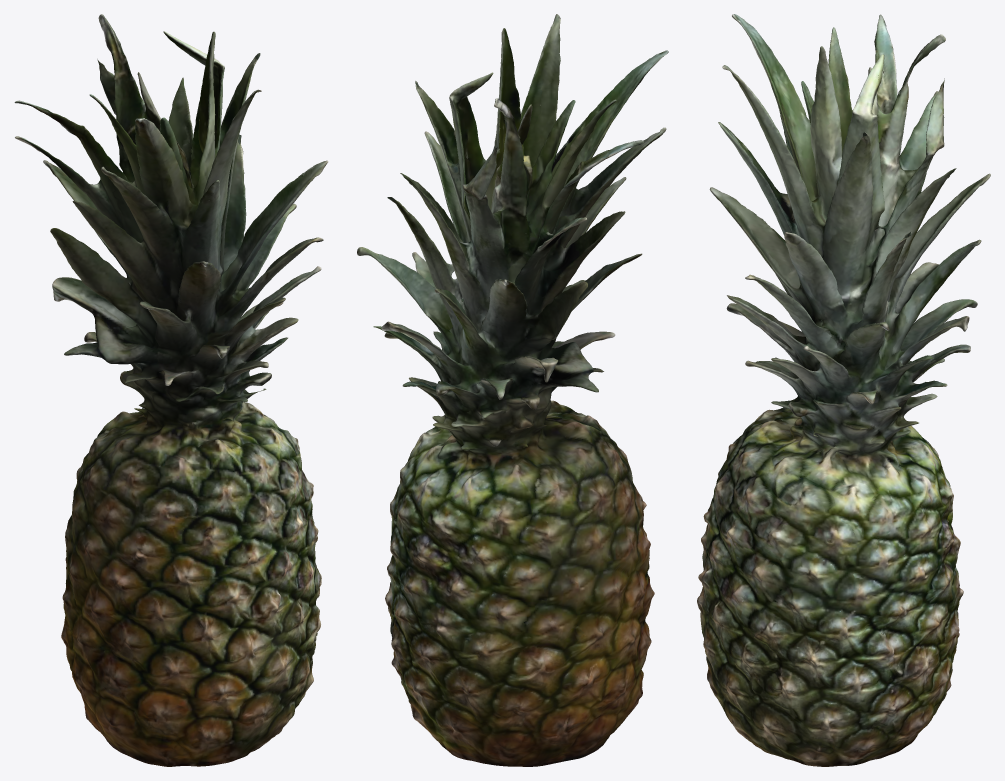
File: pineapple-opt.glb
3 renders of one model, left to right at view 1: azimuth 30°, elevation 25°; view 2: azimuth 150°, elevation 25°; view 3: azimuth 270°, elevation 25°, orthographic.
Parts seen in each view (by area): view 1: pineapple; view 2: pineapple; view 3: pineapple.
Part boxes in pixels (x1,y1,x2,y2): pineapple: [14, 14, 328, 766]; pineapple: [357, 14, 668, 766]; pineapple: [697, 14, 990, 766].
Size of the model in its own units: 2.59 by 6.07 by 2.33.
3 materials, 3 textured.
